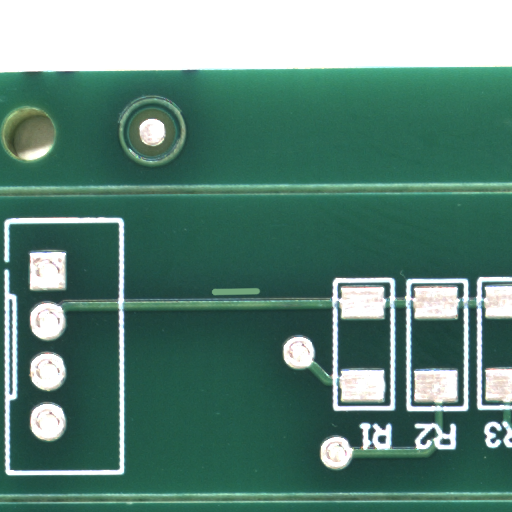Spurious_copper: (234, 291, 288, 303)
